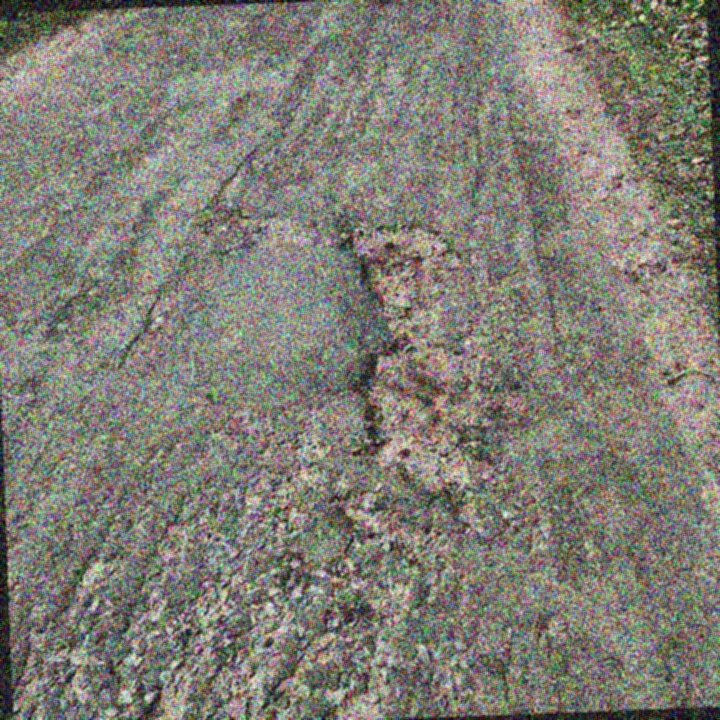pothole: (347, 334, 515, 505), (334, 212, 469, 327)
